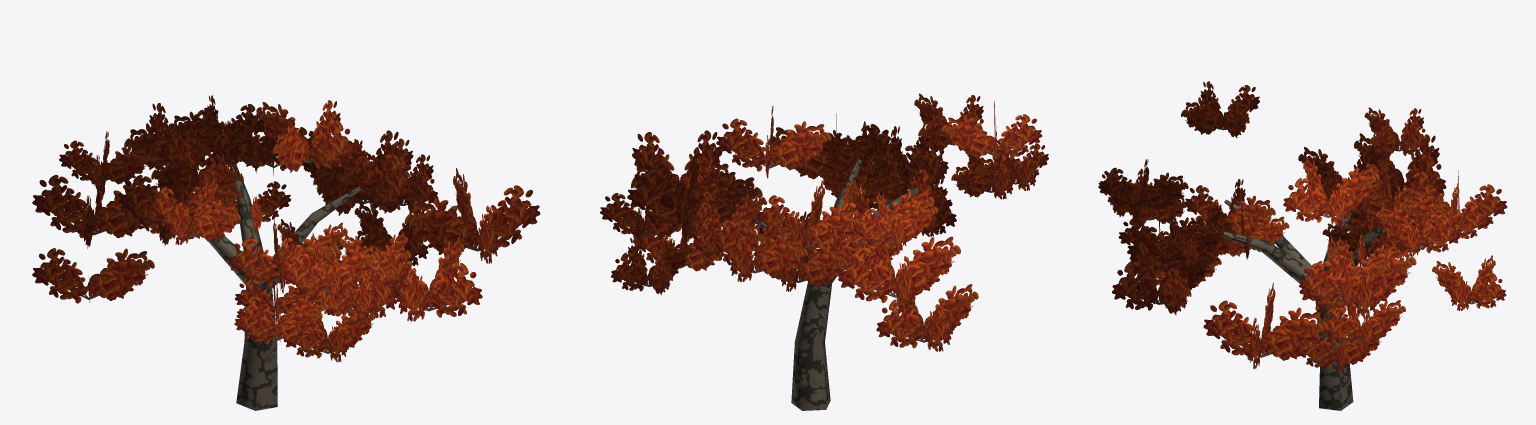
File: maple0_maple_lod1.fbx
3 renders of one model, left to right at view 1: azimuth 30°, elevation 25°; view 2: azimuth 150°, elevation 25°; view 3: azimuth 270°, elevation 25°, orthographic. The views are drawn at different scales.
Visible parts, largest first — view 1: maple0_maple_lod1; view 2: maple0_maple_lod1; view 3: maple0_maple_lod1.
Part boxes in pixels (x1,y1,x2,y2): maple0_maple_lod1: [32, 95, 540, 410]; maple0_maple_lod1: [600, 93, 1048, 410]; maple0_maple_lod1: [1098, 81, 1507, 410].
Bounding box in the file's own units: 12.22 × 9.24 × 11.47.
Materials: 2 (2 with a texture image).
